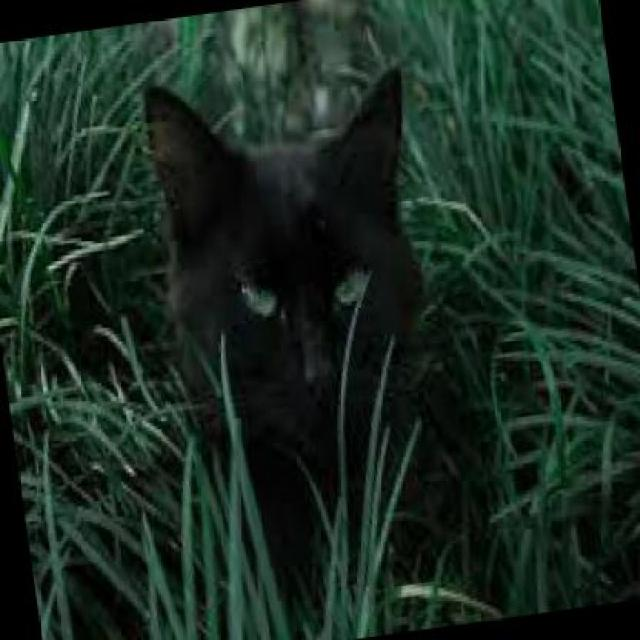animals: (120, 59, 457, 438)
